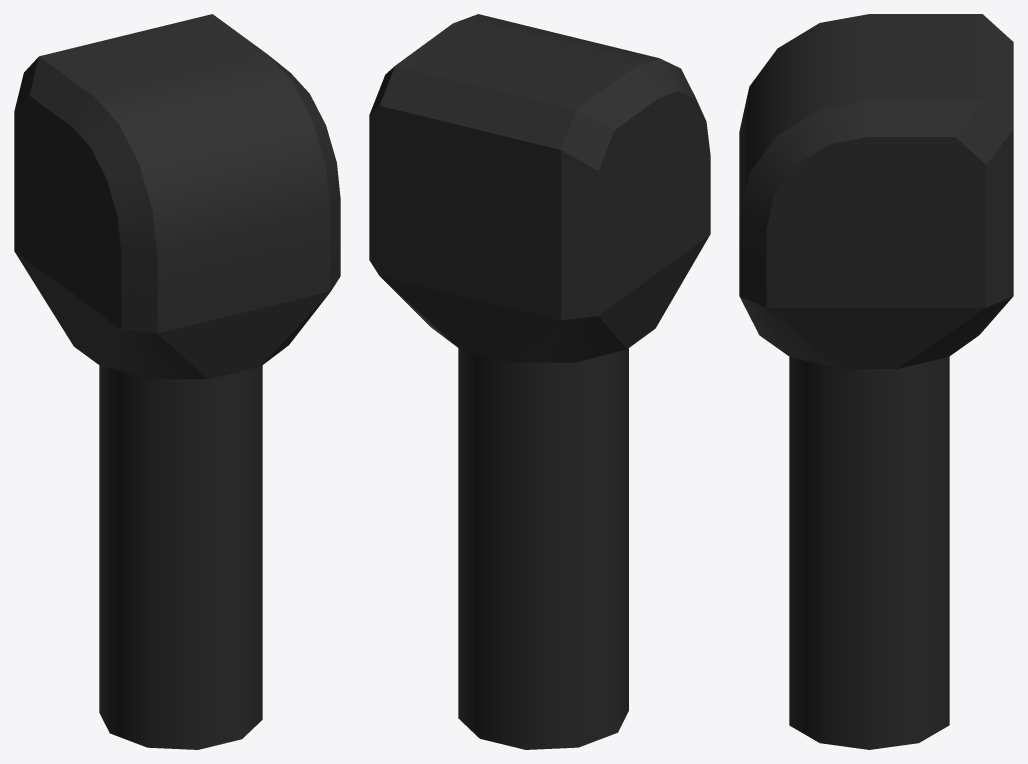
The model's file is Turret_009_Part_01.fbx.
3 views of the same model, side by side, from view 1: azimuth 30°, elevation 25°; view 2: azimuth 150°, elevation 25°; view 3: azimuth 270°, elevation 25° (orthographic). The views are drawn at different scales.
Visible parts, largest first — view 1: Turret_009_Part_01; view 2: Turret_009_Part_01; view 3: Turret_009_Part_01.
Boxes of the visible parts, <box> form: Turret_009_Part_01: <box>14,14,340,749</box>; Turret_009_Part_01: <box>369,14,710,749</box>; Turret_009_Part_01: <box>739,14,1013,749</box>.
Bounding box in the file's own units: 38.33 × 40.43 × 107.
